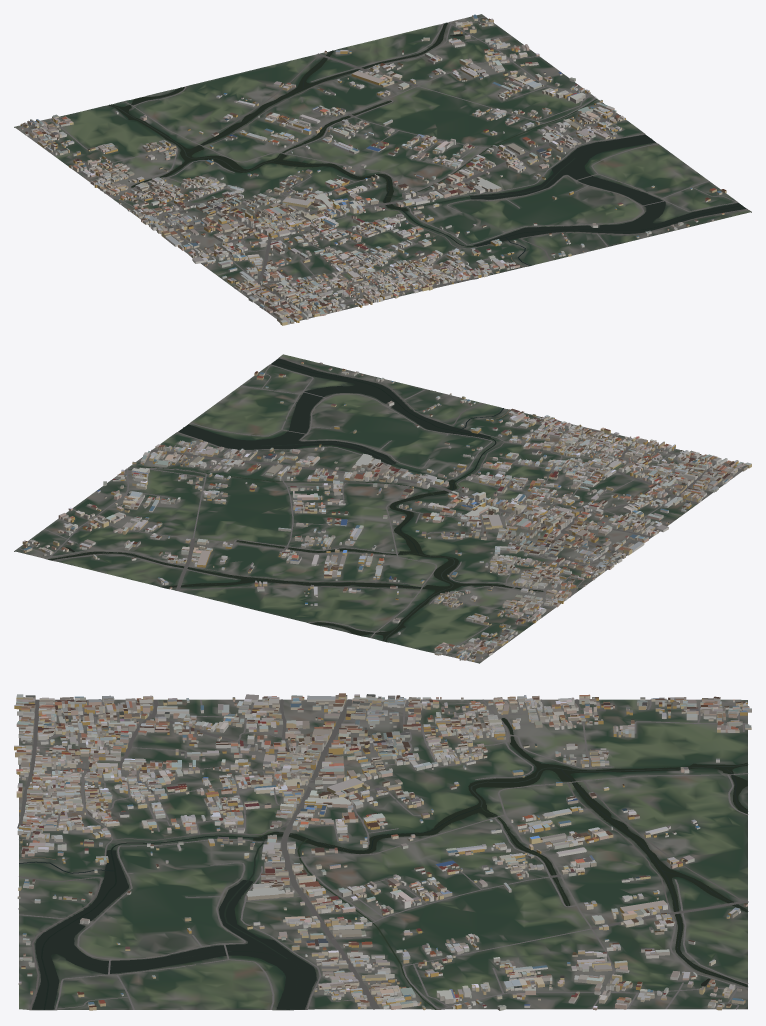
3 renders of one model, top to bottom at view 1: azimuth 30°, elevation 25°; view 2: azimuth 150°, elevation 25°; view 3: azimuth 270°, elevation 25°, orthographic. The views are drawn at different scales.
Visible parts, largest first — view 1: ground, buildings, water, roads; view 2: ground, buildings, water, roads; view 3: ground, buildings, water, roads.
Part boxes in pixels (x1,y1,x2,y2): ground: [14, 14, 751, 322]; buildings: [20, 14, 726, 325]; water: [107, 22, 746, 265]; roads: [20, 17, 747, 318]; ground: [14, 354, 740, 663]; buildings: [22, 362, 751, 661]; water: [48, 358, 543, 641]; roads: [18, 357, 742, 661]; ground: [19, 699, 747, 1010]; buildings: [14, 693, 751, 1010]; water: [19, 718, 748, 1010]; roads: [17, 699, 748, 1009].
Bounding box in the file's own units: 1419 × 23.66 × 1418.
